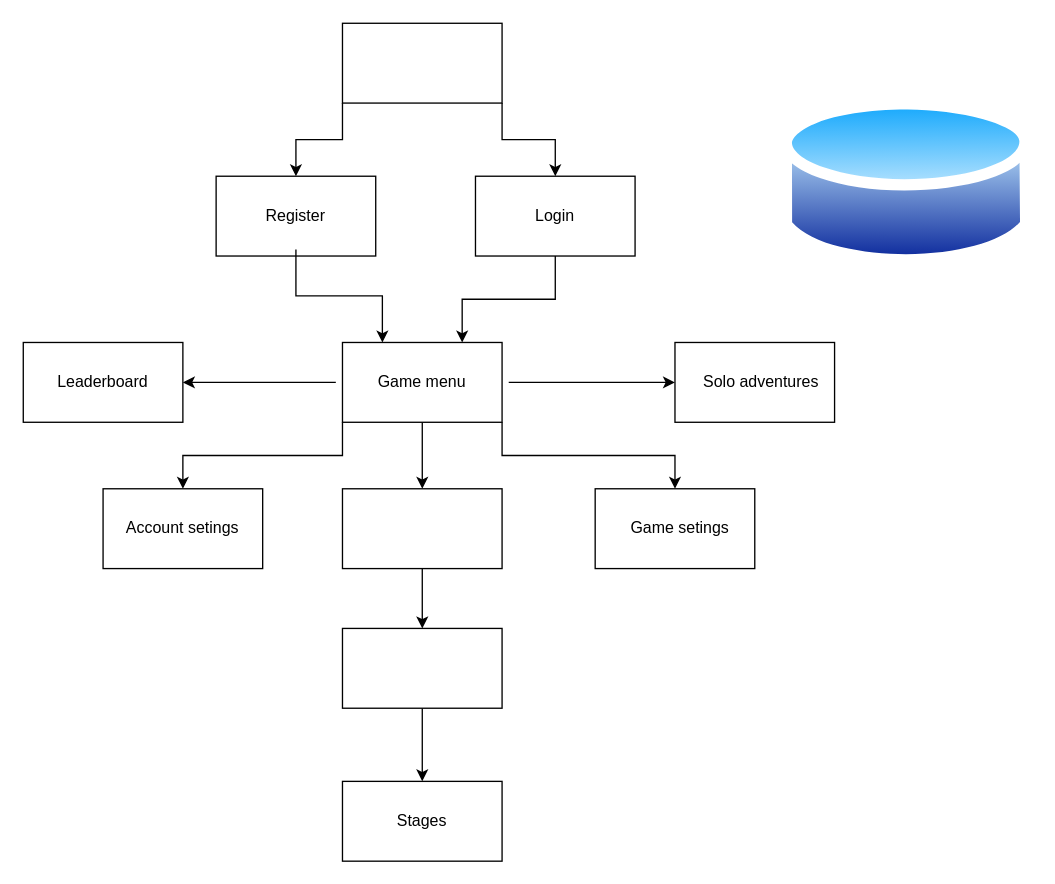
Some shapes in this 1055 by 884 pixel diagram are drawn without their labels. Here are the shapes that lost their labels. From the top down, the centre of each, then its label:
At pixel 421 62: "Index".
At pixel 906 182: "NOSQL Database".
At pixel 421 528: "Play game".
At pixel 421 667: "Game map".
